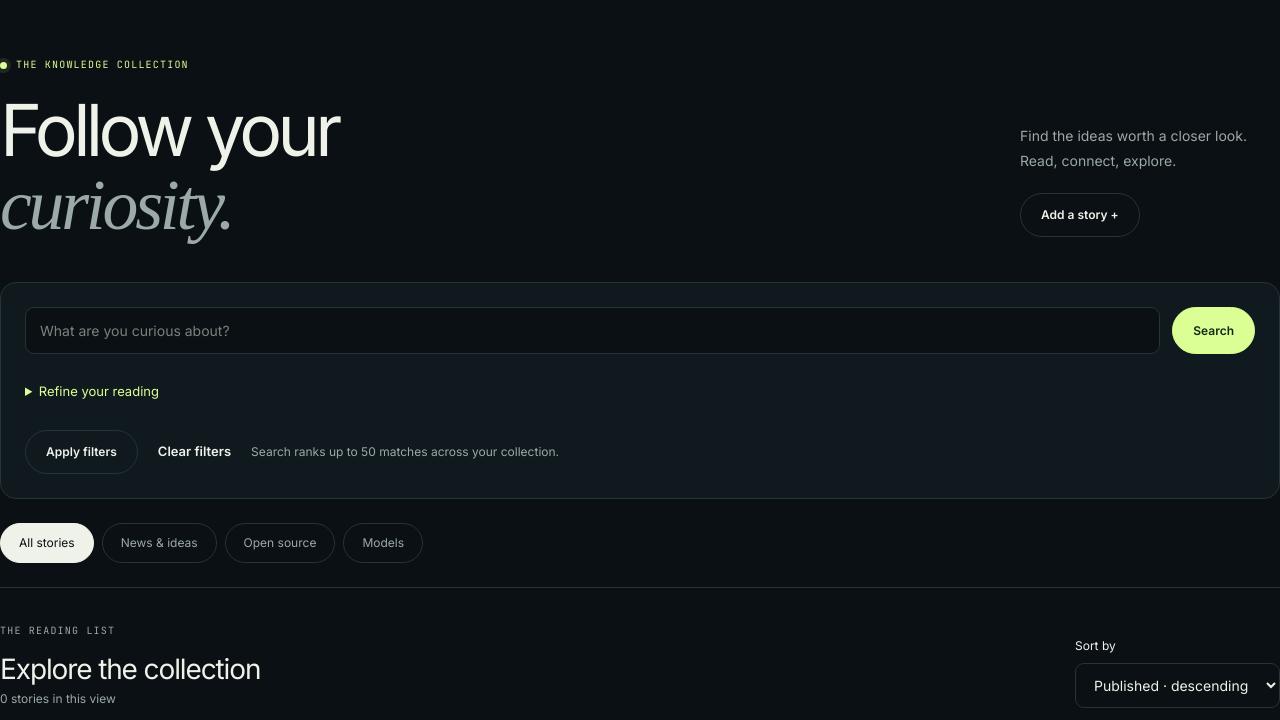
Test: opens from Explore and restores focus when cancelled
What coordinates should you click on to do the following:
click the button "Add a story +"
I would click on:
 (1080, 215)
Its box is [1020,193,1140,237].
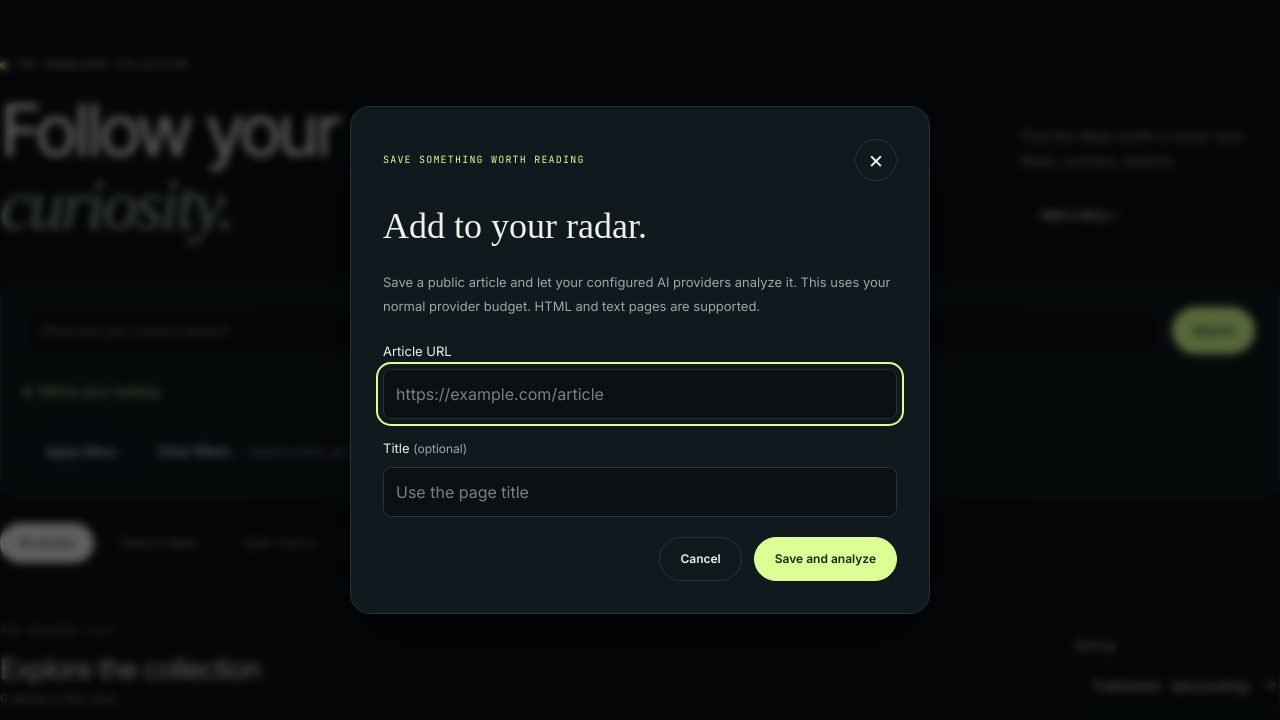
Result: the dialog is shown at [350,106,930,614]
What coordinates should you click on to do the following:
click the button "Cancel"
I would click on:
 (701, 559)
Its box is [659,537,742,581].
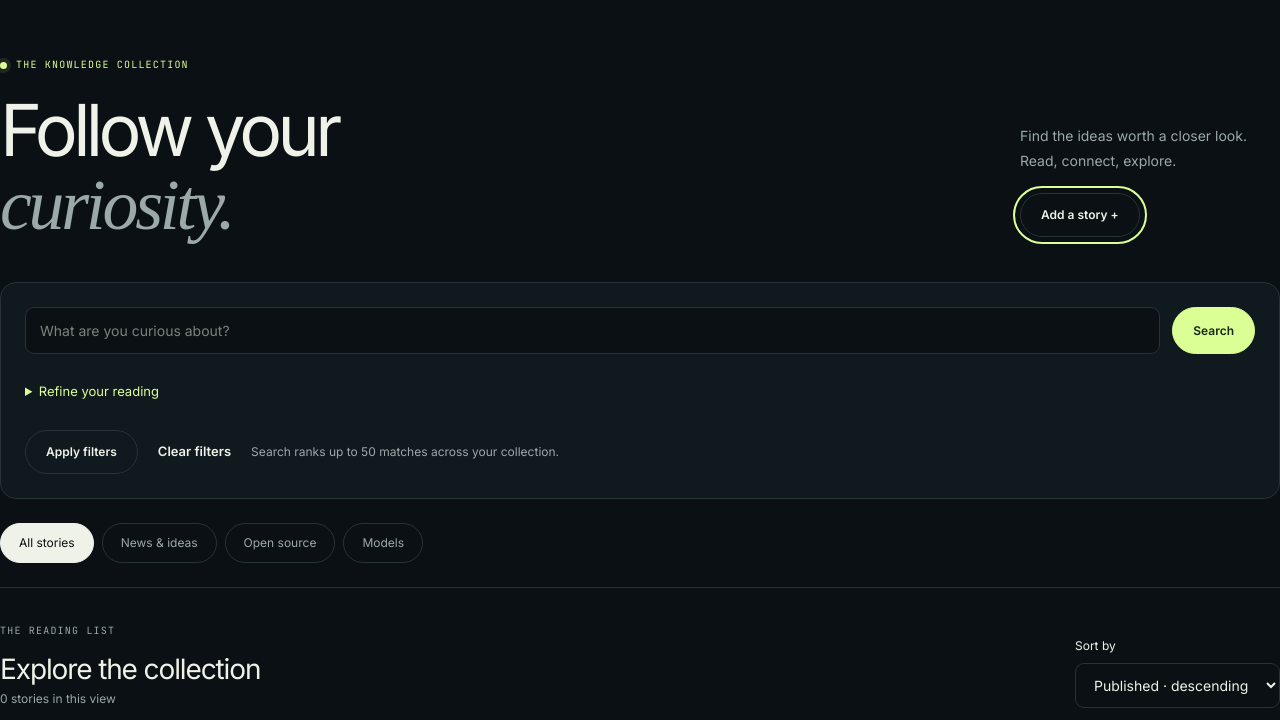
Result: the dialog is gone
